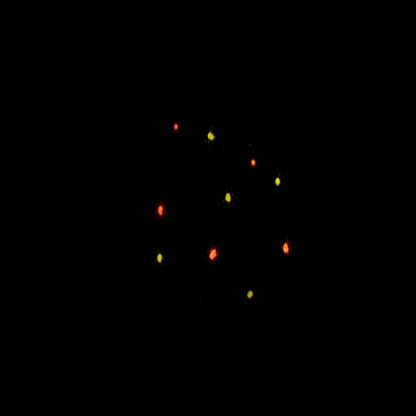PE: (205, 121, 221, 153), (268, 171, 288, 195), (221, 185, 237, 211), (153, 247, 169, 272), (245, 285, 259, 304)
PVC: (278, 229, 298, 268), (152, 192, 173, 227), (206, 237, 225, 274), (166, 114, 187, 143), (245, 152, 263, 177)
